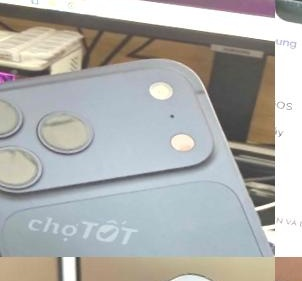scratch: (275, 0, 302, 39)
